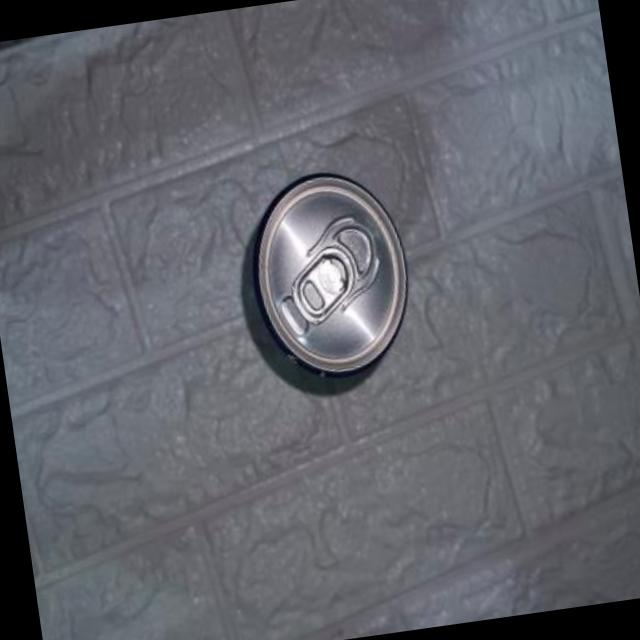metal: (259, 173, 408, 371)
